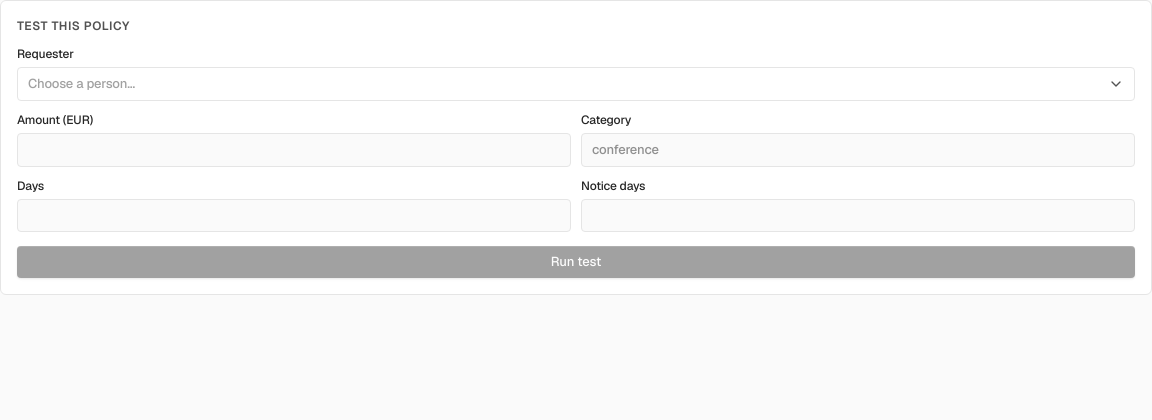
Test: PolicyTester › shows errors returned by the engine, such as a blocked self-approval
Step 1. Click the dropdown named "Requester" → click(82, 84), box [17,67,1135,101]
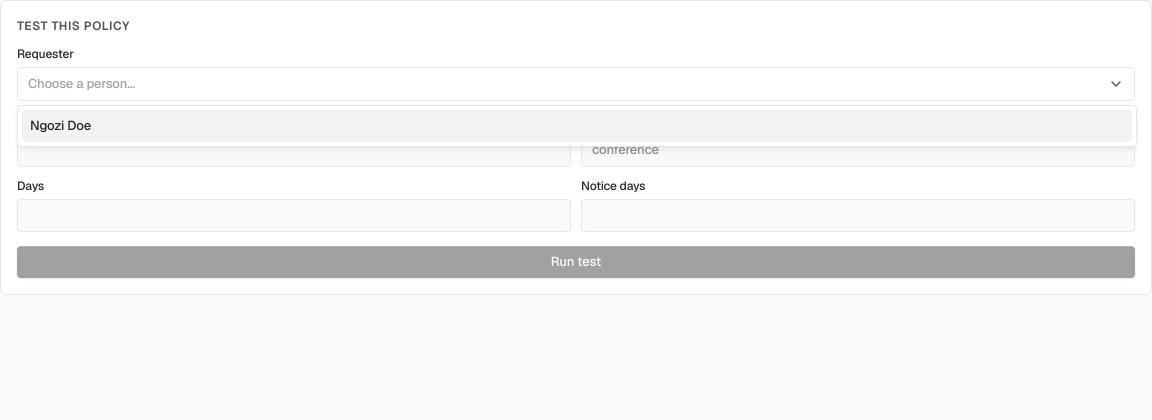
Step 2. Click the option "Ngozi Doe" → click(61, 126), box [22,110,1132,142]
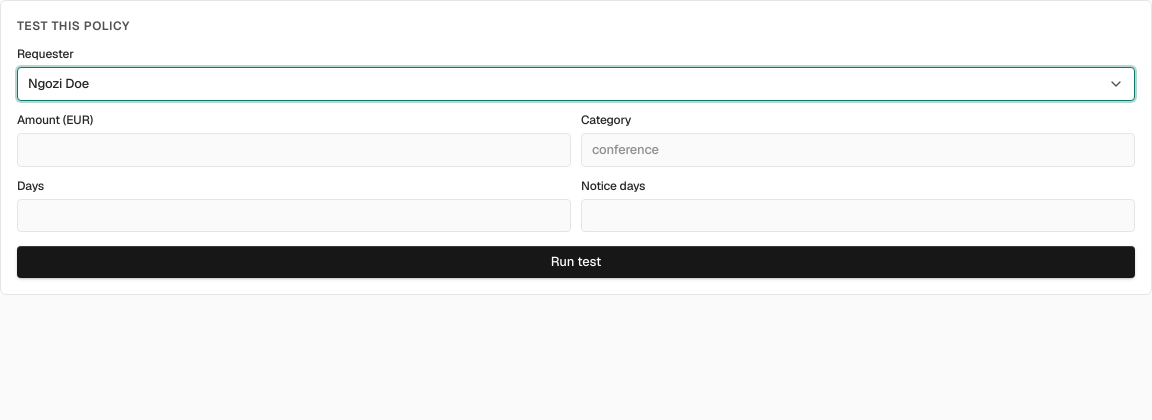
Step 3. Click the button "Run test" → click(576, 262), box [17,246,1135,278]
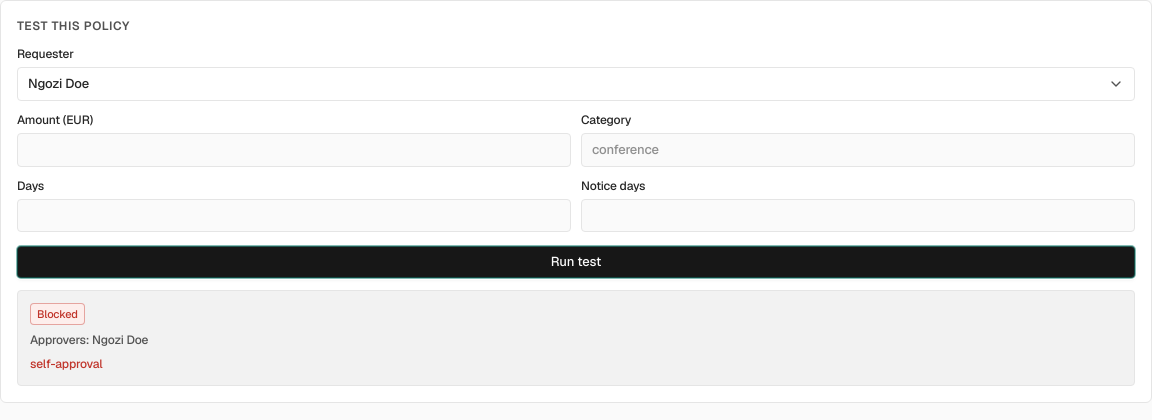
Result: the text "self-approval" is shown at [30,356,103,372]
Result: the text "Blocked" is shown at [30,302,85,325]
